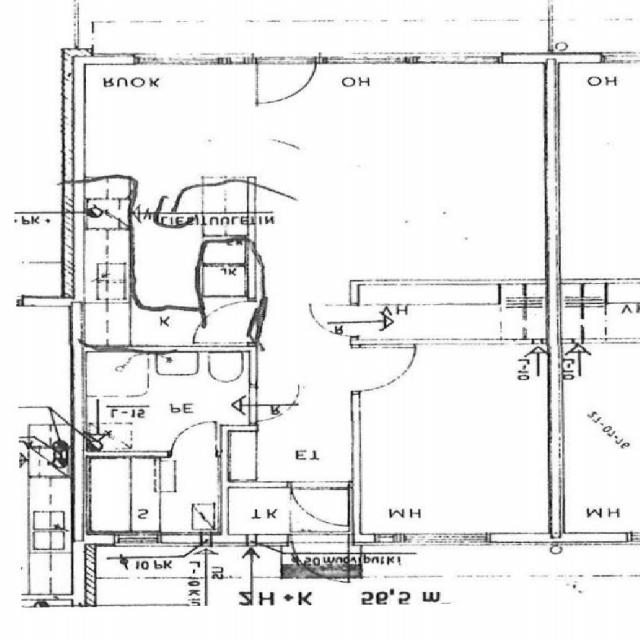door: (257, 52, 317, 108), (354, 348, 421, 392), (292, 482, 350, 529), (292, 535, 348, 583), (249, 385, 309, 422), (172, 419, 216, 456), (312, 305, 361, 336)
